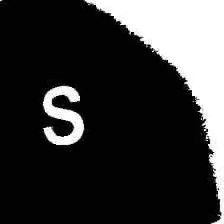LTR_S: (35, 81, 86, 147)
